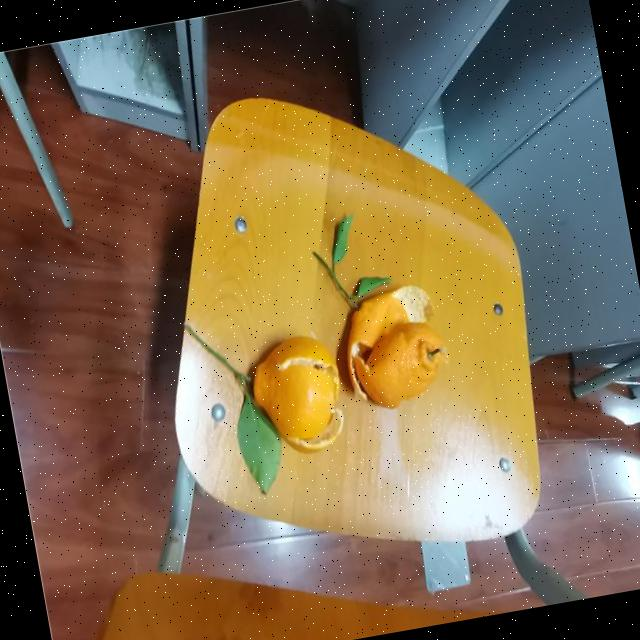orange-peel: (243, 328, 349, 449), (347, 314, 454, 412)
